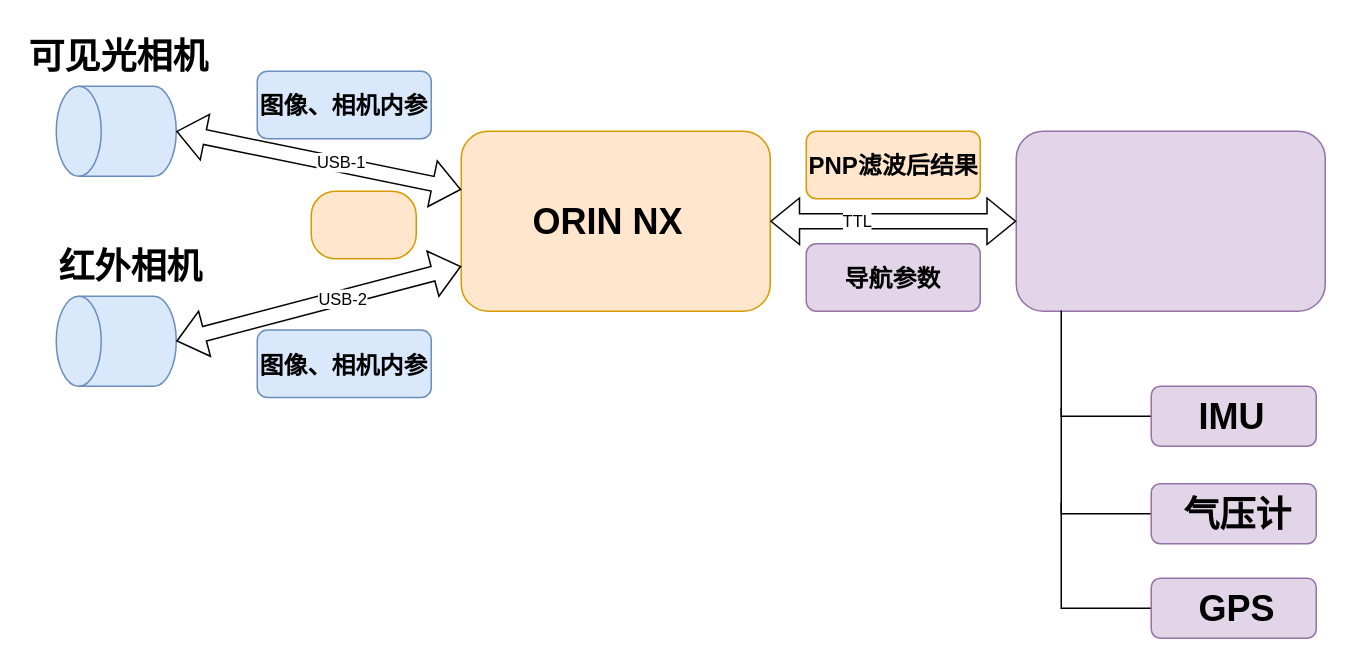
The diagram is 1352 pixels wide and 668 high, and some of its shapes have lost their labels. The centre of each missing label's shape, as x and y in pixels:
H7导航模组: the point at 1170,220
相机控制: the point at 363,224
